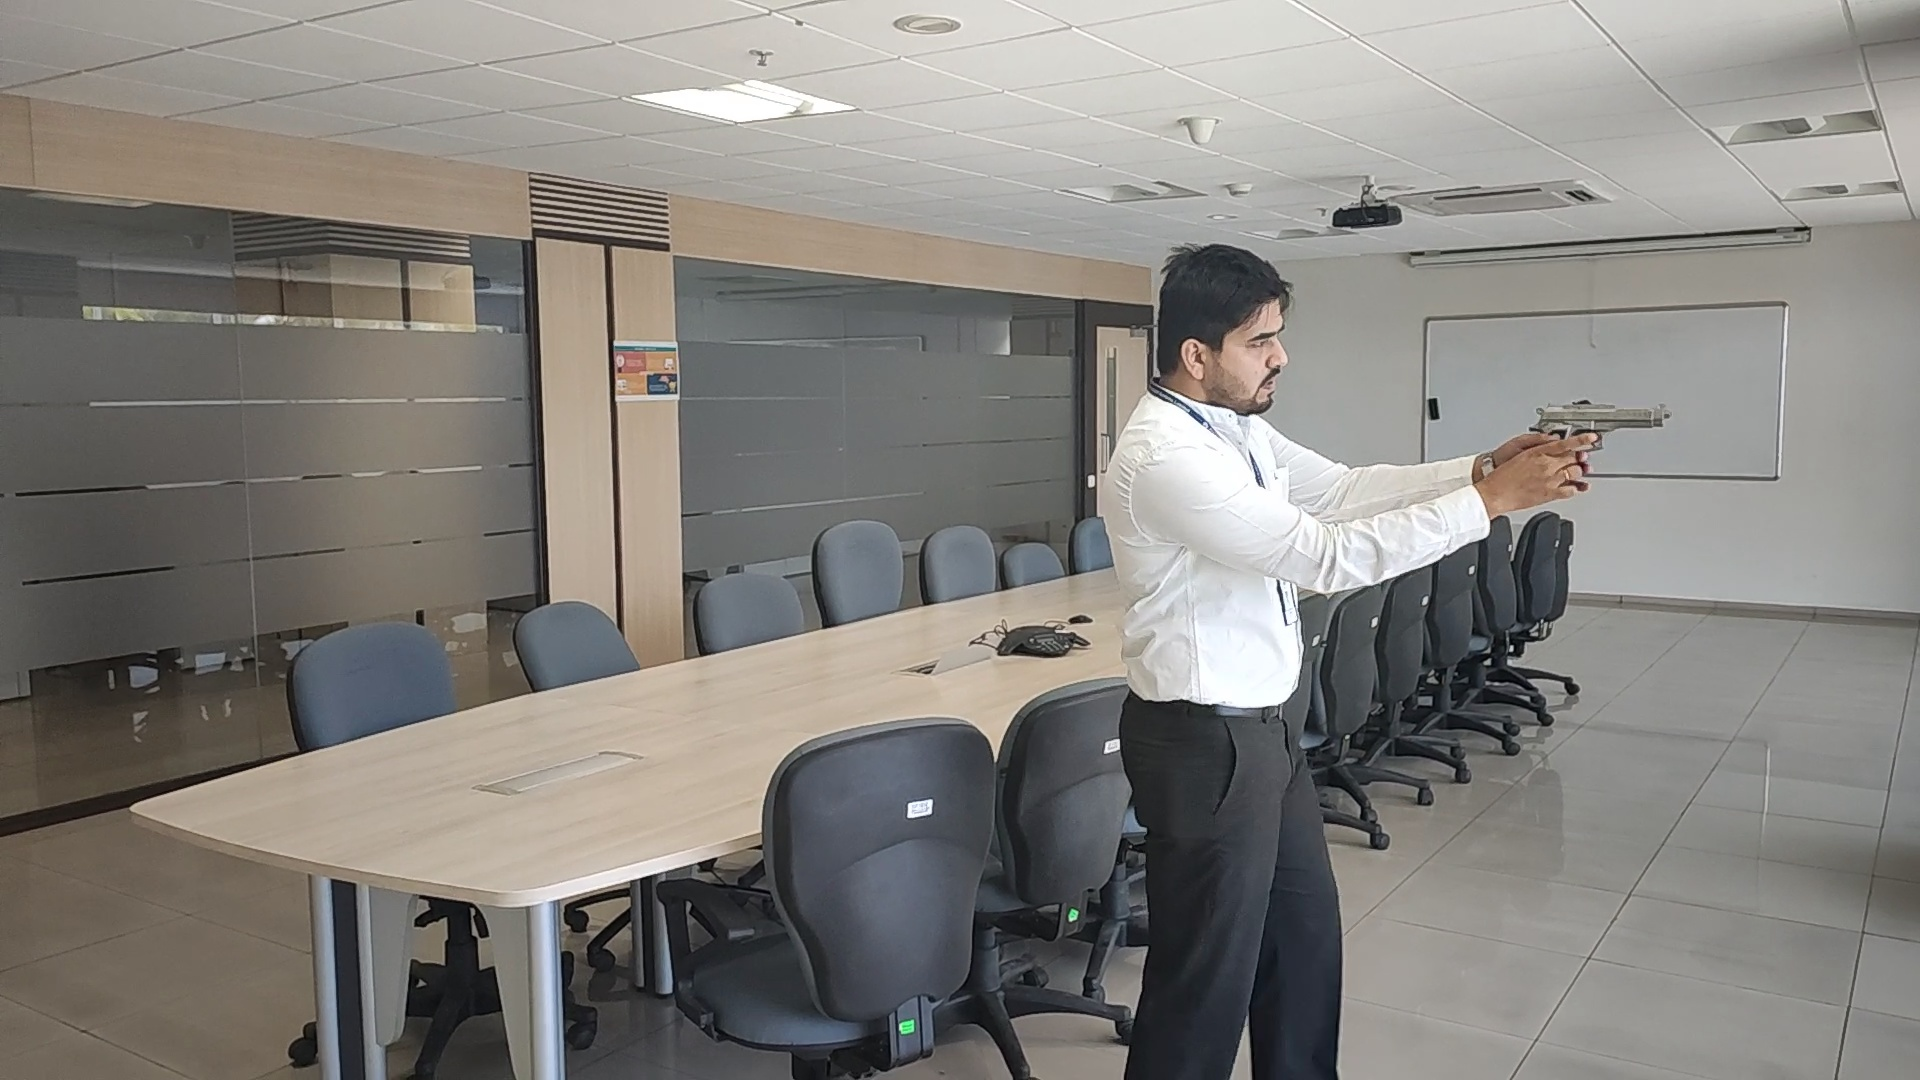gun: (1528, 400, 1673, 433)
